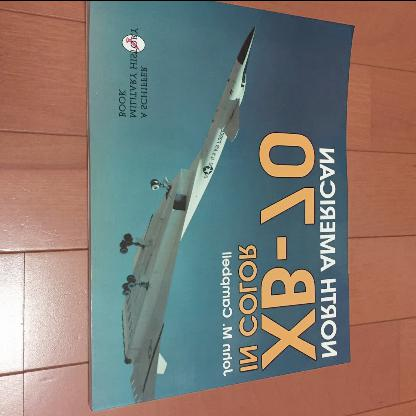U2: (120, 11, 262, 403)
